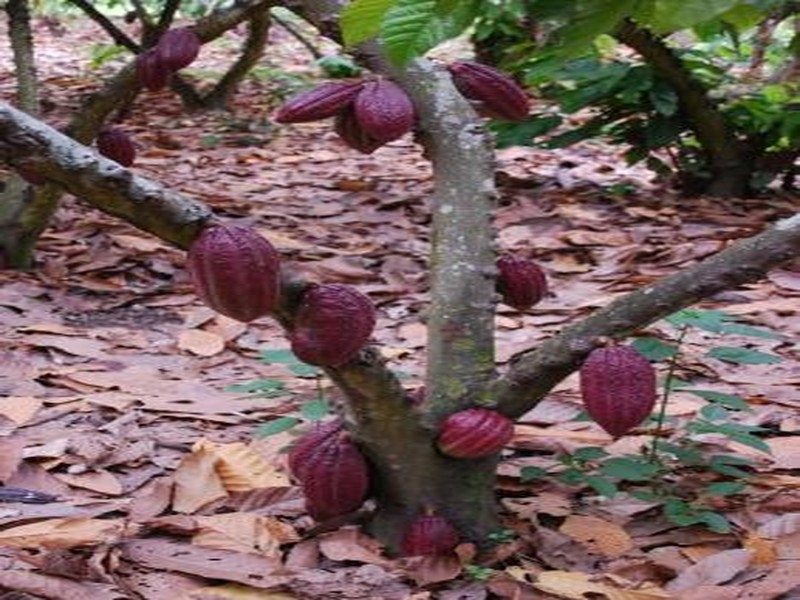Cacaopod: (186, 223, 278, 323), (581, 343, 657, 434)
